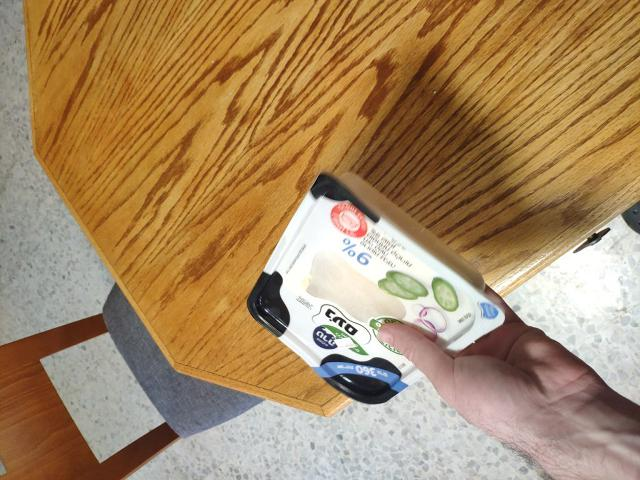cheese: (243, 186, 471, 379)
